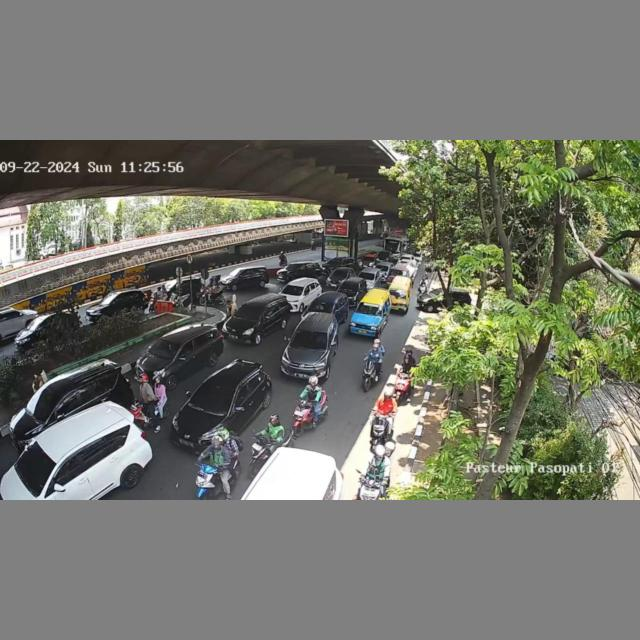windshield: (14, 443, 62, 492), (187, 382, 238, 417), (27, 384, 67, 420), (291, 329, 331, 351), (146, 337, 184, 359), (236, 304, 264, 322), (310, 299, 333, 313), (356, 302, 382, 314), (282, 283, 305, 295), (338, 282, 361, 293), (389, 287, 408, 300), (358, 272, 376, 280), (332, 269, 349, 277)
